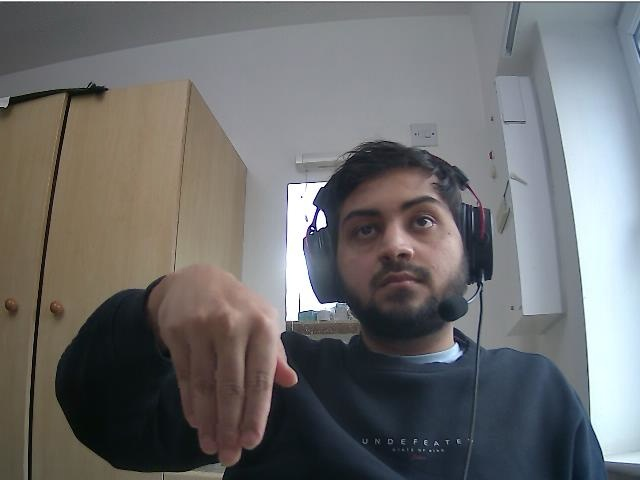down: (156, 264, 298, 469)
